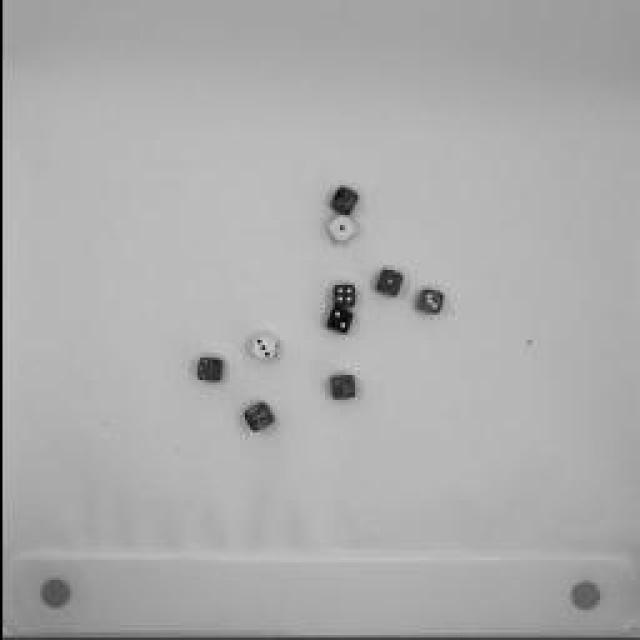dice_1: (369, 268, 406, 302), (322, 214, 358, 246), (325, 185, 360, 217)
dice_2: (410, 288, 445, 322), (318, 306, 352, 339), (324, 373, 356, 405)
dice_3: (246, 328, 282, 368)
dice_4: (236, 400, 274, 435), (328, 285, 358, 310)
dice_6: (187, 355, 225, 390)
